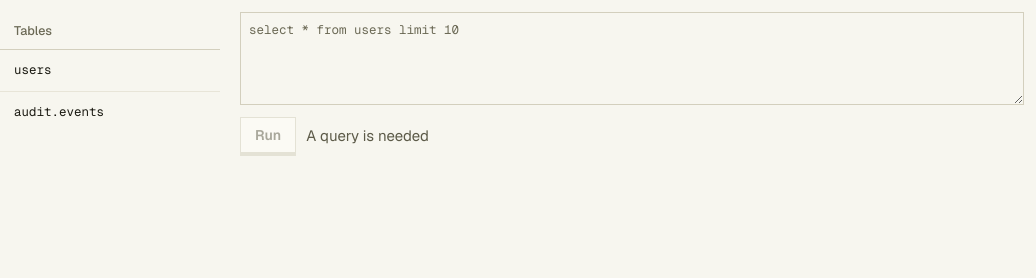
Test: Data › tables open from the keyboard
Click the button "users": (110, 70) [14,61,206,80]
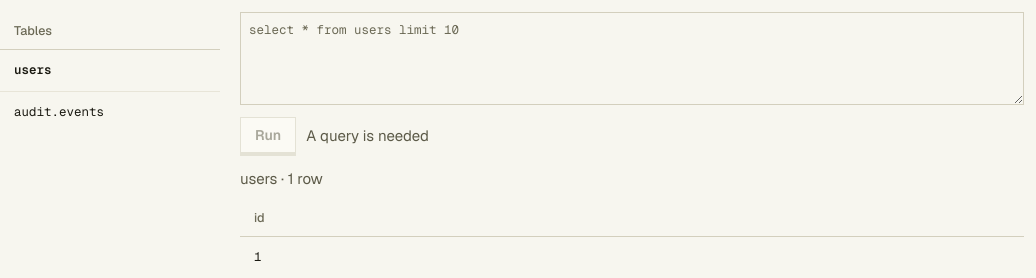
Check: the text "users · 1 row" is shown, box [240,169,323,188]
